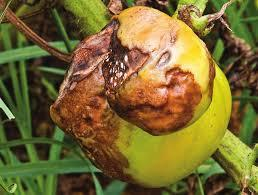tomato late blight: (50, 8, 233, 190)
